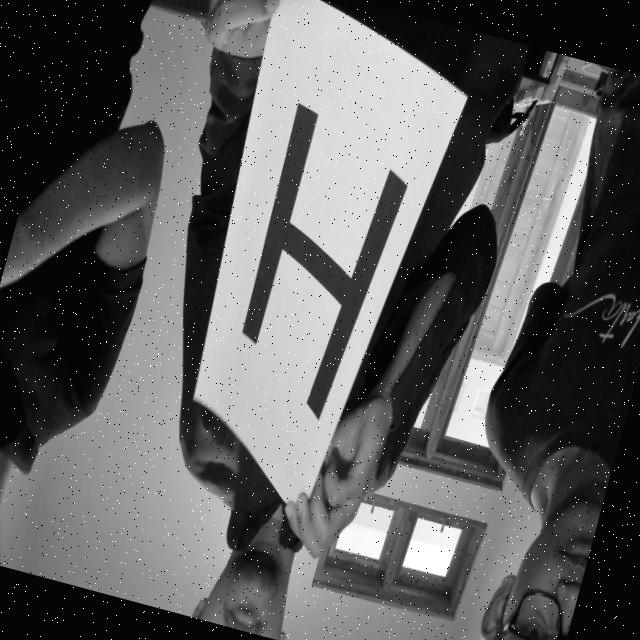h: (192, 48, 440, 450)
